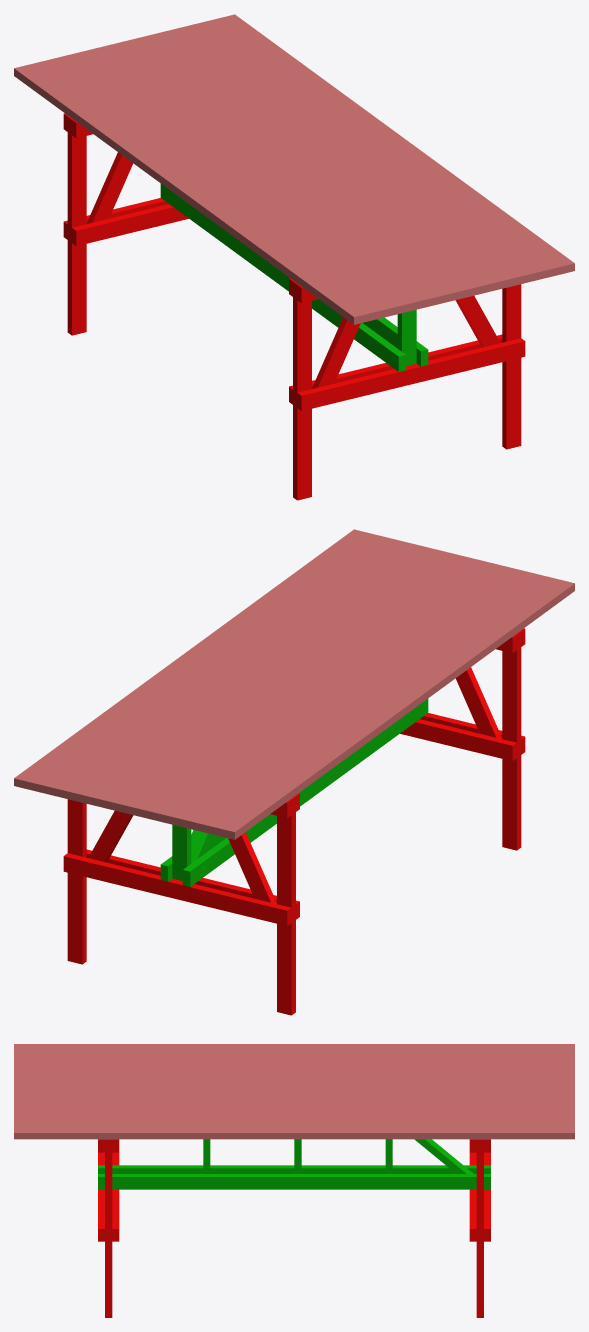
Rendered from result.glb.
The picture shows the model from 3 angles, top to bottom: view 1: azimuth 30°, elevation 25°; view 2: azimuth 150°, elevation 25°; view 3: azimuth 270°, elevation 25°; orthographic projection. The views are drawn at different scales.
Visible parts, largest first — view 1: 880cad5b-12b1-4926-88f6-284c453df114__Box, 77cf7585-9c24-40bb-82cd-c86097a3bb67__undefined, 8507137e-bbfd-4476-b3ab-eb979e116078__undefined, 1a2fc5eb-48b7-4e35-8bdb-83ac1d97c84b__undefined, 6a7edeec-5a59-4ff0-a14e-477da6a9fbb7__undefined, e518a253-2358-4aca-87e7-8335ed1a9f94__undefined, 1d6f73de-16cc-409e-8705-780eeec8549f__undefined, 5d55d521-cd44-49f3-94a3-d32ccc3c4722__undefined, 661d6a07-b23d-4fe0-80ce-df8d29c7748c__undefined, 942453ab-27cf-4fe4-abf4-ced5051fe1c7__undefined, 97580fff-5018-4110-a4d8-231cd571df7f__undefined, 92885e6d-56c5-4771-bf2f-4e9ecb69aac4__undefined (+15 smaller); view 2: 880cad5b-12b1-4926-88f6-284c453df114__Box, 77cf7585-9c24-40bb-82cd-c86097a3bb67__undefined, 8507137e-bbfd-4476-b3ab-eb979e116078__undefined, 1a2fc5eb-48b7-4e35-8bdb-83ac1d97c84b__undefined, 6a7edeec-5a59-4ff0-a14e-477da6a9fbb7__undefined, e518a253-2358-4aca-87e7-8335ed1a9f94__undefined, 1d6f73de-16cc-409e-8705-780eeec8549f__undefined, 5d55d521-cd44-49f3-94a3-d32ccc3c4722__undefined, 661d6a07-b23d-4fe0-80ce-df8d29c7748c__undefined, 942453ab-27cf-4fe4-abf4-ced5051fe1c7__undefined, 97580fff-5018-4110-a4d8-231cd571df7f__undefined, 92885e6d-56c5-4771-bf2f-4e9ecb69aac4__undefined (+14 smaller); view 3: 92885e6d-56c5-4771-bf2f-4e9ecb69aac4__undefined, c178c6aa-e201-4a3a-a0aa-8f0d8e4a61dc__strutH, 661d6a07-b23d-4fe0-80ce-df8d29c7748c__undefined, 5d55d521-cd44-49f3-94a3-d32ccc3c4722__undefined, 6a7edeec-5a59-4ff0-a14e-477da6a9fbb7__undefined, 942453ab-27cf-4fe4-abf4-ced5051fe1c7__undefined, 90ab8bfb-9e3a-4860-b579-736ee7bd6268__undefined, 1a2fc5eb-48b7-4e35-8bdb-83ac1d97c84b__undefined, 97580fff-5018-4110-a4d8-231cd571df7f__undefined, dc66c1f3-627c-4bbd-a0bf-9d02b49a4c8b__undefined, 880cad5b-12b1-4926-88f6-284c453df114__Box, 8507137e-bbfd-4476-b3ab-eb979e116078__undefined (+12 smaller).
Part boxes in pixels (bbox=[...]): 880cad5b-12b1-4926-88f6-284c453df114__Box: bbox=[14, 64, 368, 324]; 77cf7585-9c24-40bb-82cd-c86097a3bb67__undefined: bbox=[191, 21, 545, 281]; 8507137e-bbfd-4476-b3ab-eb979e116078__undefined: bbox=[29, 61, 383, 321]; 1a2fc5eb-48b7-4e35-8bdb-83ac1d97c84b__undefined: bbox=[147, 32, 501, 292]; 6a7edeec-5a59-4ff0-a14e-477da6a9fbb7__undefined: bbox=[103, 43, 457, 303]; e518a253-2358-4aca-87e7-8335ed1a9f94__undefined: bbox=[205, 18, 560, 277]; 1d6f73de-16cc-409e-8705-780eeec8549f__undefined: bbox=[44, 57, 398, 317]; 5d55d521-cd44-49f3-94a3-d32ccc3c4722__undefined: bbox=[88, 46, 442, 306]; 661d6a07-b23d-4fe0-80ce-df8d29c7748c__undefined: bbox=[73, 50, 427, 310]; 942453ab-27cf-4fe4-abf4-ced5051fe1c7__undefined: bbox=[117, 39, 471, 299]; 97580fff-5018-4110-a4d8-231cd571df7f__undefined: bbox=[161, 29, 515, 288]; 92885e6d-56c5-4771-bf2f-4e9ecb69aac4__undefined: bbox=[220, 14, 574, 274]; 880cad5b-12b1-4926-88f6-284c453df114__Box: bbox=[220, 579, 574, 839]; 77cf7585-9c24-40bb-82cd-c86097a3bb67__undefined: bbox=[43, 536, 397, 796]; 8507137e-bbfd-4476-b3ab-eb979e116078__undefined: bbox=[205, 576, 559, 836]; 1a2fc5eb-48b7-4e35-8bdb-83ac1d97c84b__undefined: bbox=[87, 547, 441, 807]; 6a7edeec-5a59-4ff0-a14e-477da6a9fbb7__undefined: bbox=[131, 558, 485, 818]; e518a253-2358-4aca-87e7-8335ed1a9f94__undefined: bbox=[28, 533, 383, 792]; 1d6f73de-16cc-409e-8705-780eeec8549f__undefined: bbox=[190, 572, 544, 832]; 5d55d521-cd44-49f3-94a3-d32ccc3c4722__undefined: bbox=[146, 561, 500, 821]; 661d6a07-b23d-4fe0-80ce-df8d29c7748c__undefined: bbox=[161, 565, 515, 825]; 942453ab-27cf-4fe4-abf4-ced5051fe1c7__undefined: bbox=[117, 554, 471, 814]; 97580fff-5018-4110-a4d8-231cd571df7f__undefined: bbox=[73, 544, 427, 803]; 92885e6d-56c5-4771-bf2f-4e9ecb69aac4__undefined: bbox=[14, 529, 368, 789]; 92885e6d-56c5-4771-bf2f-4e9ecb69aac4__undefined: bbox=[14, 1127, 574, 1139]; c178c6aa-e201-4a3a-a0aa-8f0d8e4a61dc__strutH: bbox=[98, 1174, 490, 1189]; 661d6a07-b23d-4fe0-80ce-df8d29c7748c__undefined: bbox=[14, 1067, 574, 1073]; 5d55d521-cd44-49f3-94a3-d32ccc3c4722__undefined: bbox=[14, 1073, 574, 1079]; 6a7edeec-5a59-4ff0-a14e-477da6a9fbb7__undefined: bbox=[14, 1079, 574, 1085]; 942453ab-27cf-4fe4-abf4-ced5051fe1c7__undefined: bbox=[14, 1085, 574, 1091]; 90ab8bfb-9e3a-4860-b579-736ee7bd6268__undefined: bbox=[14, 1091, 574, 1097]; 1a2fc5eb-48b7-4e35-8bdb-83ac1d97c84b__undefined: bbox=[14, 1097, 574, 1103]; 97580fff-5018-4110-a4d8-231cd571df7f__undefined: bbox=[14, 1103, 574, 1109]; dc66c1f3-627c-4bbd-a0bf-9d02b49a4c8b__undefined: bbox=[14, 1109, 574, 1115]; 880cad5b-12b1-4926-88f6-284c453df114__Box: bbox=[14, 1044, 574, 1049]; 8507137e-bbfd-4476-b3ab-eb979e116078__undefined: bbox=[14, 1050, 574, 1055].
Bounding box in the file's own units: 760 × 725 × 2000.
